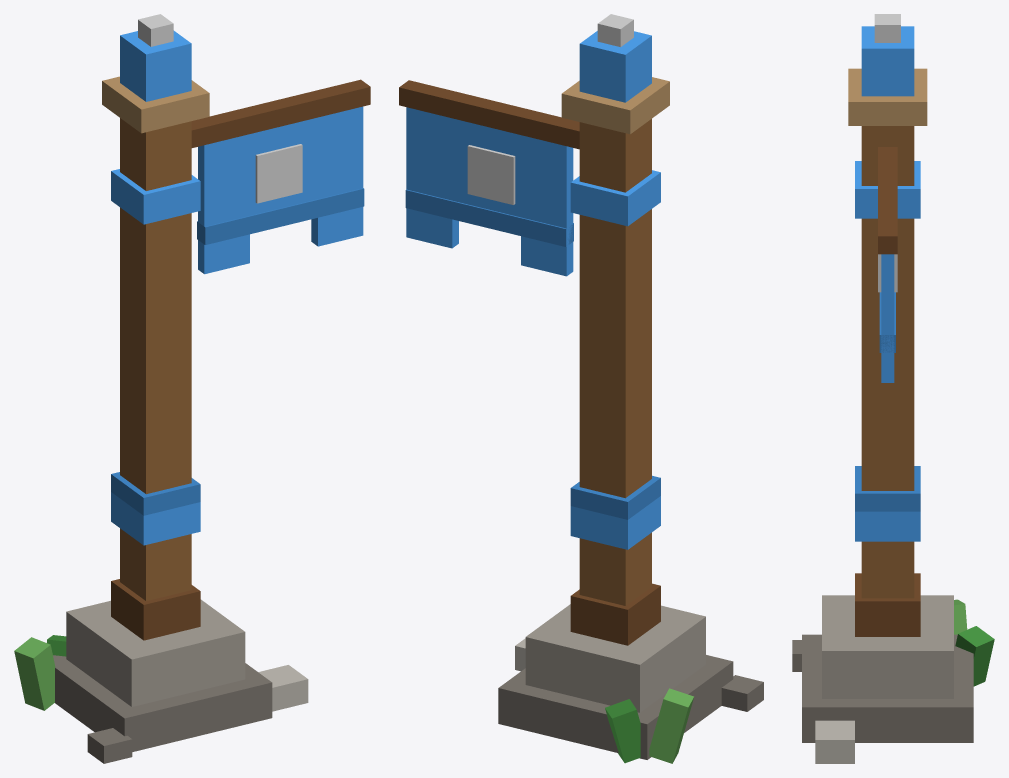
File: territory-marker-butterfly.glb
3 views of the same model, side by side, from view 1: azimuth 30°, elevation 25°; view 2: azimuth 150°, elevation 25°; view 3: azimuth 270°, elevation 25° (orthographic).
Visible parts, largest first — view 1: marker-post, banner; view 2: marker-post, banner; view 3: marker-post, banner.
Part boxes in pixels (box(x1,y1,x2,y2)): marker-post: box(14, 14, 308, 763); banner: box(191, 79, 370, 274); marker-post: box(498, 14, 763, 763); banner: box(399, 80, 579, 276); marker-post: box(792, 14, 994, 763); banner: box(878, 147, 897, 382).
Size of the model in its own units: 0.5581 by 1.15 by 0.3071.
